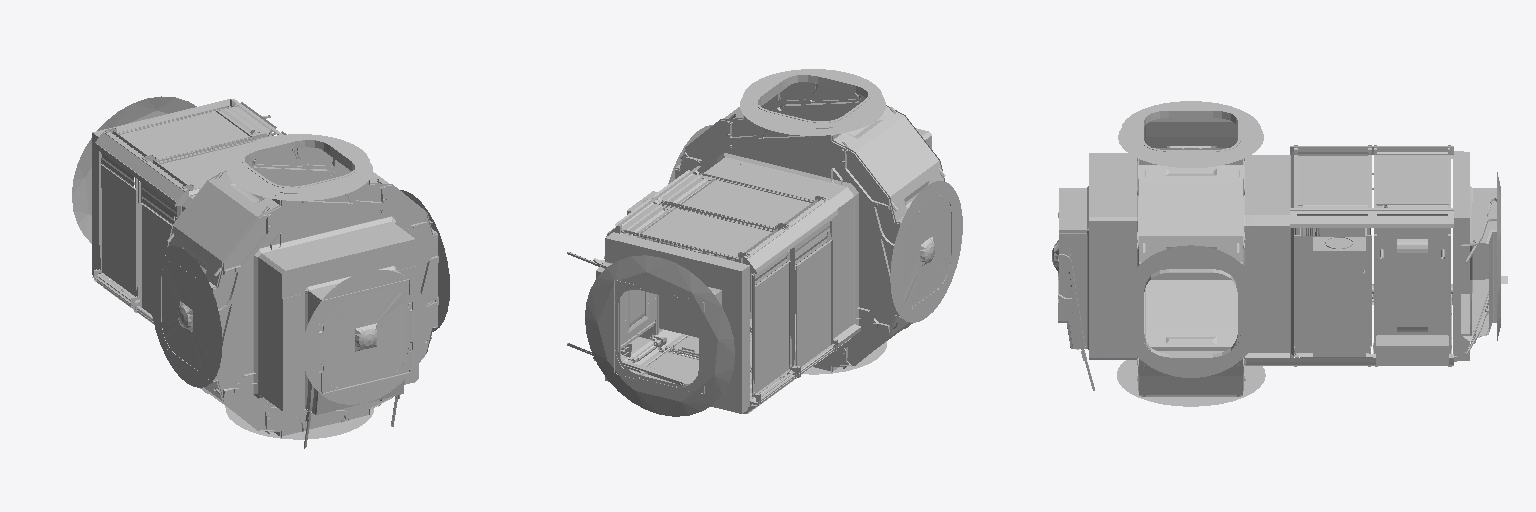
3 renders of one model, left to right at view 1: azimuth 30°, elevation 25°; view 2: azimuth 150°, elevation 25°; view 3: azimuth 270°, elevation 25°, orthographic.
Parts seen in each view (by area): view 1: Node3_Int__Bulkhead_SBD; view 2: Node3_Int__Bulkhead_SBD; view 3: Node3_Int__Bulkhead_SBD.
Part boxes in pixels (left/top/right/bottom): Node3_Int__Bulkhead_SBD: left=72, top=96, right=449, bottom=448; Node3_Int__Bulkhead_SBD: left=567, top=69, right=962, bottom=416; Node3_Int__Bulkhead_SBD: left=1052, top=101, right=1507, bottom=406.
Bounding box in the file's own units: 3.56 × 3.56 × 5.88.